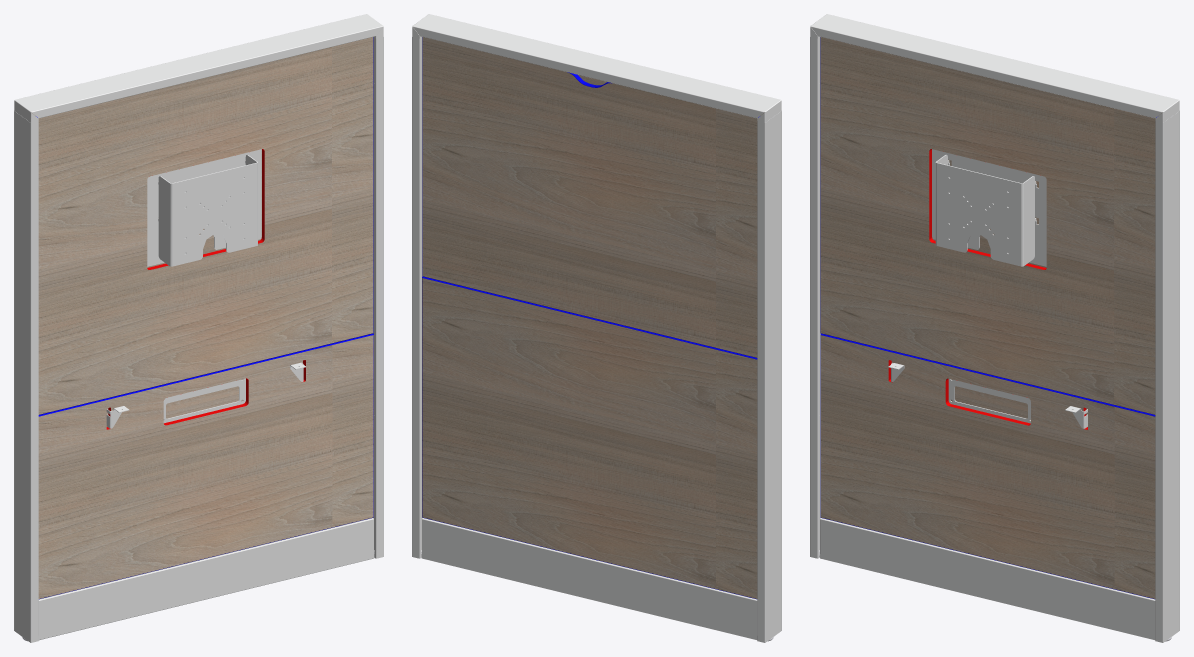
3 views of the same model, side by side, from view 1: azimuth 30°, elevation 25°; view 2: azimuth 150°, elevation 25°; view 3: azimuth 330°, elevation 25° (orthographic).
Visible parts, largest first — view 1: 5, 4 (×2), 15, 14, 16, 13, 22, 23, 6 (×2), 17; view 2: 6, 18, 14, 16, 22, 5; view 3: 5, 4 (×2), 15, 22, 16, 13, 14, 23, 6 (×2), 17.
Part boxes in pixels (x1,y1,x2,y2): 5: [38, 37, 373, 414]; 4 (×2): [38, 333, 373, 599]; 15: [38, 518, 374, 640]; 14: [14, 111, 38, 642]; 16: [14, 14, 383, 122]; 13: [158, 155, 257, 266]; 22: [373, 37, 383, 558]; 23: [147, 149, 261, 266]; 6 (×2): [31, 37, 373, 418]; 17: [163, 378, 245, 423]; 6: [422, 37, 757, 598]; 18: [421, 518, 757, 639]; 14: [757, 111, 781, 642]; 16: [412, 14, 781, 122]; 22: [412, 37, 422, 558]; 5: [422, 37, 759, 599]; 5: [820, 37, 1155, 414]; 4 (×2): [820, 333, 1155, 599]; 15: [820, 518, 1155, 640]; 22: [1155, 111, 1179, 642]; 16: [810, 14, 1179, 122]; 13: [935, 154, 1036, 266]; 14: [810, 37, 820, 558]; 23: [932, 149, 1046, 266]; 6 (×2): [820, 37, 1162, 427]; 17: [948, 378, 1030, 423].
Size of the model in its own units: 1.2 by 1.74 by 0.1443.
Materials: 5 (1 with a texture image).
